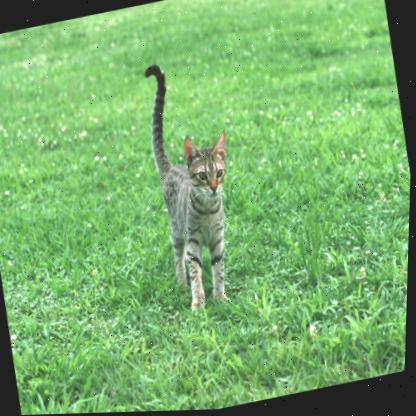cat: (152, 130, 250, 289)
